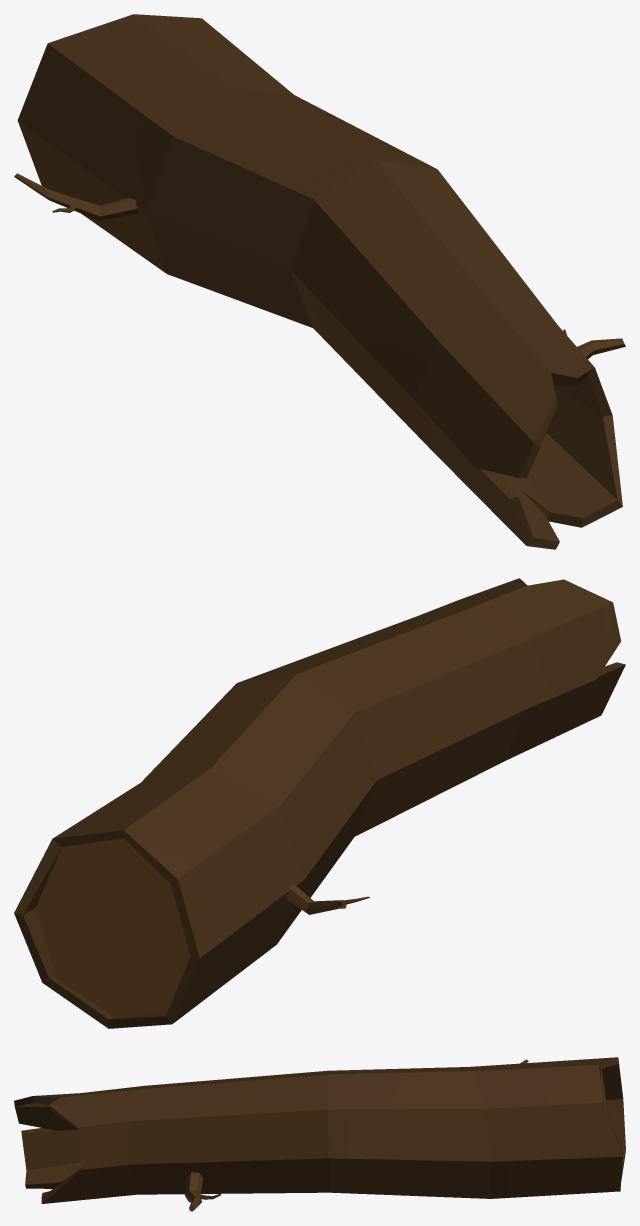
The model's file is TreeTrunk1.fbx.
The picture shows the model from 3 angles, top to bottom: view 1: azimuth 30°, elevation 25°; view 2: azimuth 150°, elevation 25°; view 3: azimuth 270°, elevation 25°; orthographic projection. The views are drawn at different scales.
Visible parts, largest first — view 1: Tree Trunk; view 2: Tree Trunk; view 3: Tree Trunk.
Boxes of the visible parts, x1,y1,x2,y2 form: Tree Trunk: (14,14,625,549); Tree Trunk: (14,578,625,1028); Tree Trunk: (14,1057,625,1211).
Size of the model in its own units: 91.22 by 50.71 by 214.
1 material, 1 textured.
